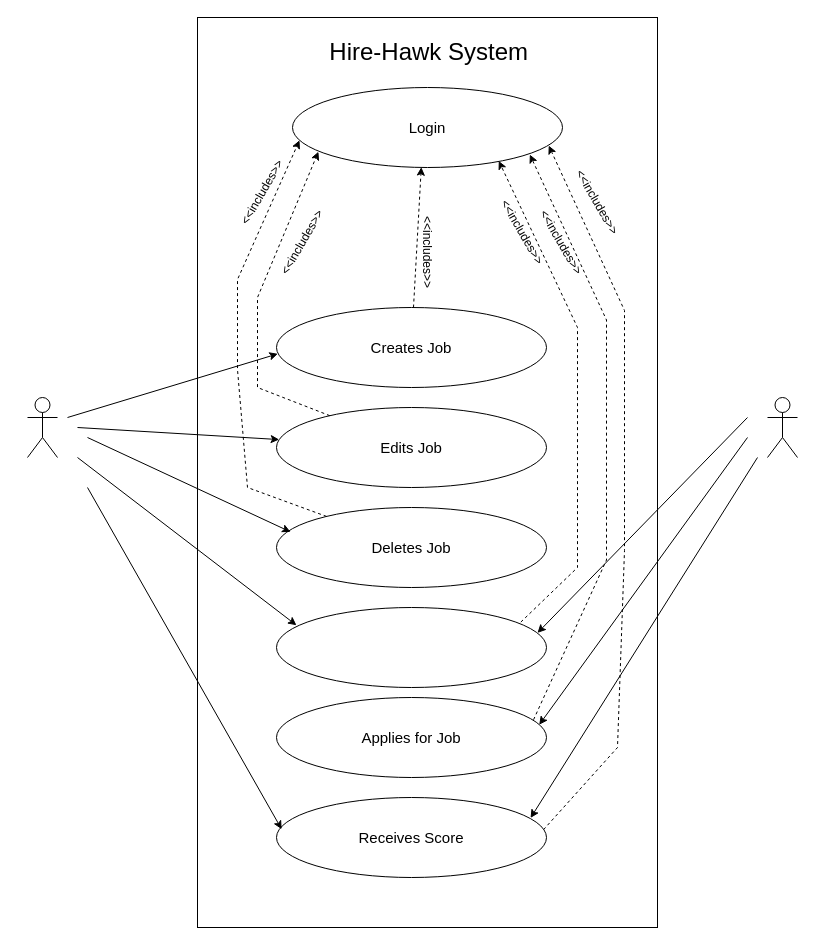
This 836x945 diagram has some shape labels left out. Each missing label, with the centre of its shape:
Admin: (x=42, y=427)
Applicant: (x=782, y=427)
Views Job: (x=411, y=647)
